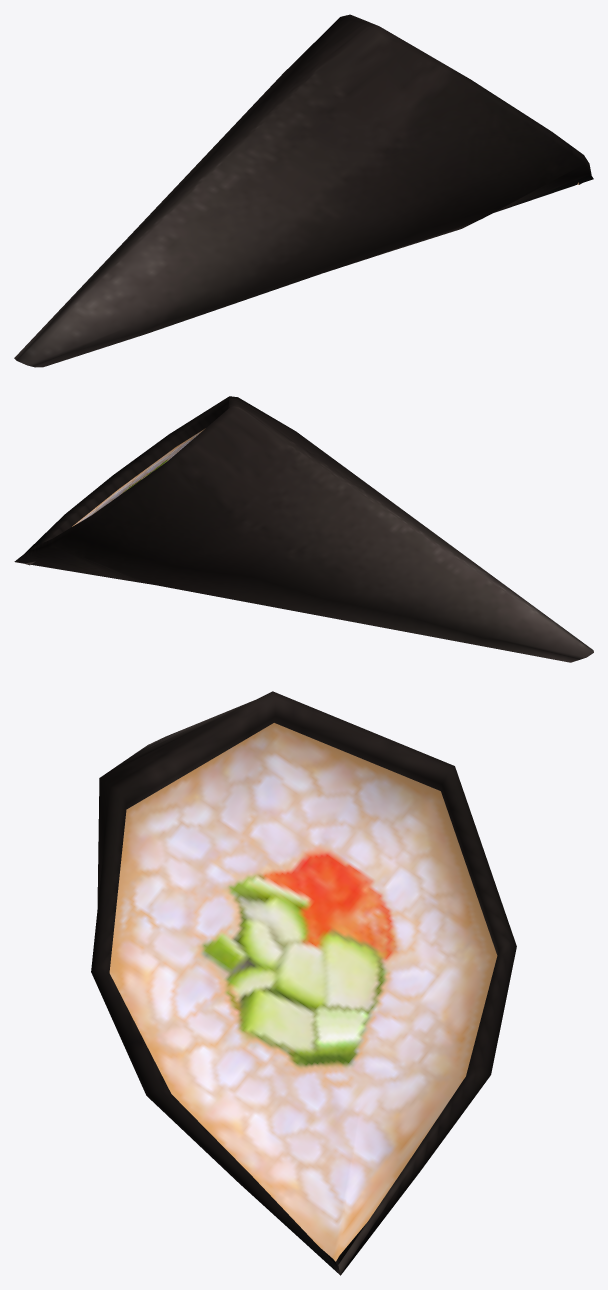
The model's file is Temaki.fbx.
3 views of the same model, one above another, from view 1: azimuth 30°, elevation 25°; view 2: azimuth 150°, elevation 25°; view 3: azimuth 270°, elevation 25° (orthographic). The views are drawn at different scales.
Parts seen in each view (by area): view 1: Temaki; view 2: Temaki; view 3: Temaki.
Boxes of the visible parts, x1,y1,x2,y2 form: Temaki: [14, 14, 593, 367]; Temaki: [14, 396, 593, 662]; Temaki: [91, 691, 516, 1275].
Bounding box in the file's own units: 1.63 × 0.5593 × 0.5592.
